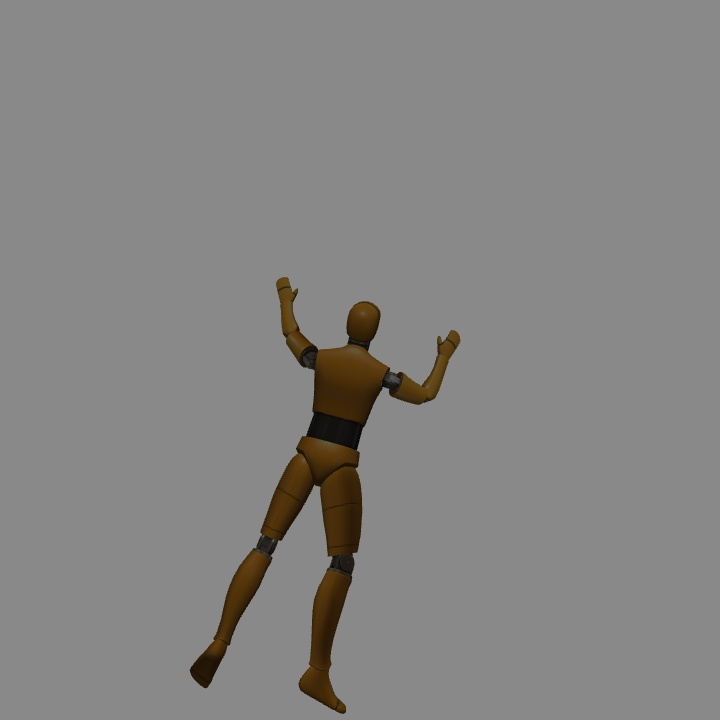victim: (273, 275, 454, 707)
